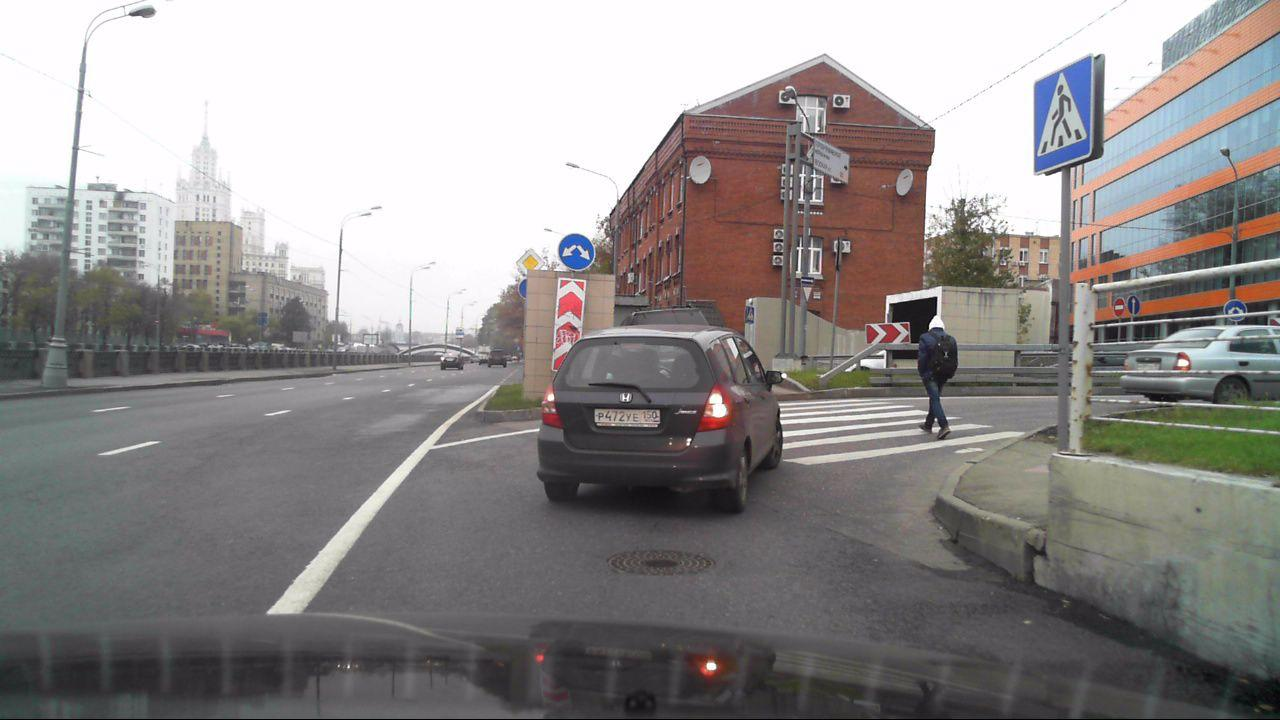obstructed_road_sign: (550, 279, 586, 372), (515, 248, 545, 276), (1223, 300, 1248, 322)
road_sign: (1033, 52, 1092, 176), (558, 233, 595, 270), (866, 322, 910, 344), (1128, 296, 1140, 315), (1114, 298, 1125, 316)
